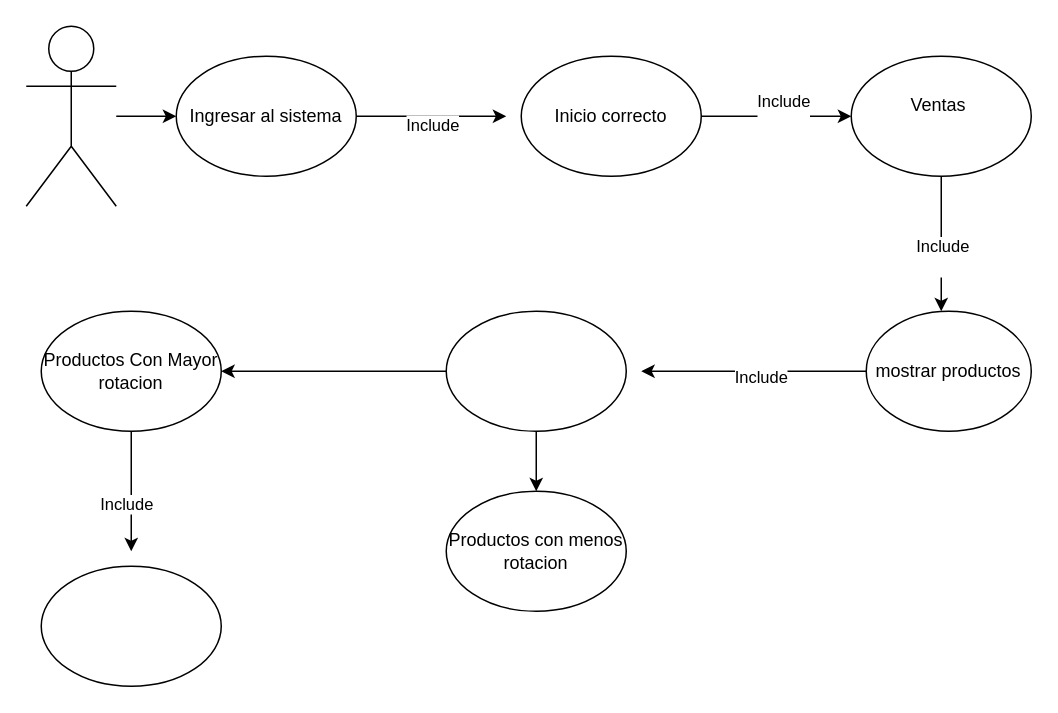
The diagram is 1058 pixels wide and 713 high, and some of its shapes have lost their labels. Here are the shapes that lost their labels. From the top down, the centre of each, then its label:
At (70,115): "Actor".
At (535,370): "Seleccionar".
At (130,625): "Lo mas vendido".
